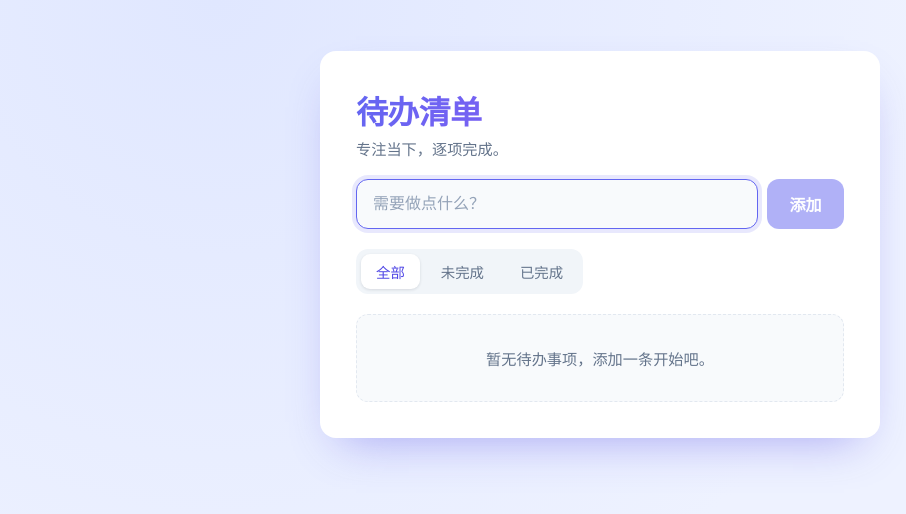
Scenario: App › deletes a todo
Type "临时任务" into the field named "新待办事项".
click(557, 204); type("临时任务")  # box [356,179,758,229]
Then press Enter
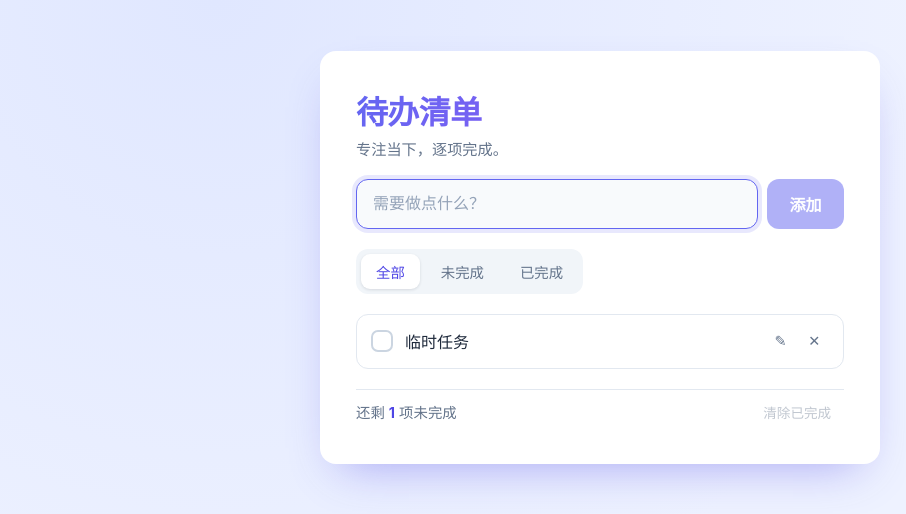
Expected: the text "临时任务" is shown, [405,332,469,352]
Click the button named "删除「临时任务」".
click(814, 341)  # box [799,326,829,356]
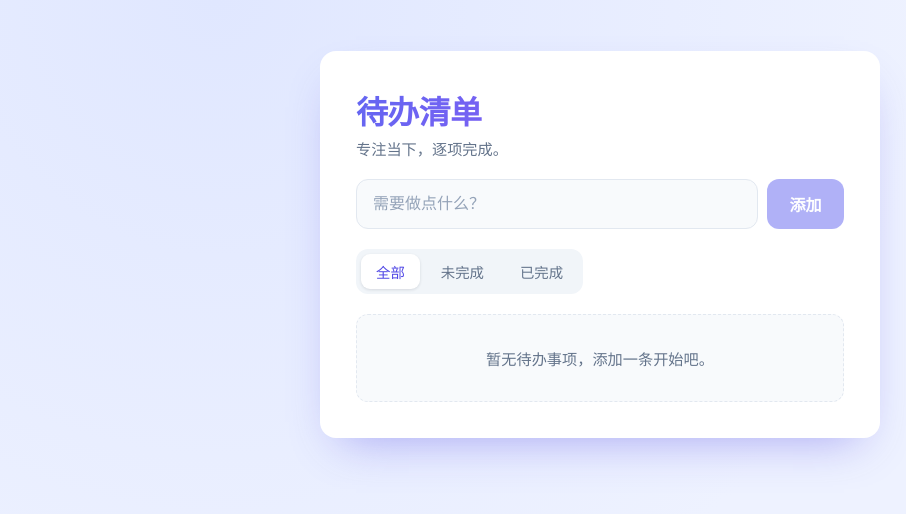
Expected: the text "临时任务" is gone
